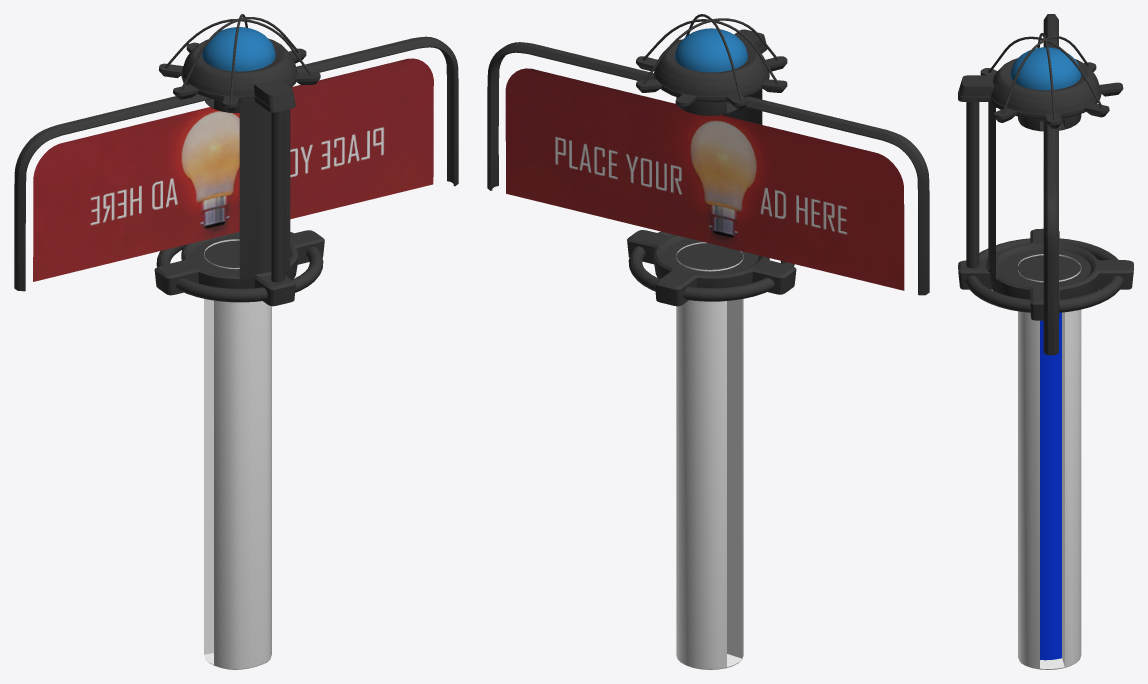
File: Future billboard.FBX
3 renders of one model, left to right at view 1: azimuth 30°, elevation 25°; view 2: azimuth 150°, elevation 25°; view 3: azimuth 270°, elevation 25°, orthographic. The views are drawn at different scales.
Parts seen in each view (by area): view 1: Plane001, STERILAZOR3, bole, Object001; view 2: Plane001, bole, STERILAZOR3, Object001; view 3: bole, STERILAZOR3, Object001.
Part boxes in pixels (box(x1,y1,x2,y2)): Plane001: box(33, 58, 433, 281); STERILAZOR3: box(154, 14, 324, 306); bole: box(204, 239, 271, 669); Object001: box(14, 36, 458, 291); Plane001: box(505, 68, 904, 290); bole: box(676, 242, 743, 669); STERILAZOR3: box(627, 14, 796, 306); Object001: box(487, 42, 929, 295); bole: box(1018, 254, 1081, 669); STERILAZOR3: box(958, 33, 1133, 320); Object001: box(1043, 14, 1058, 355).
Size of the model in its own units: 171 by 236 by 60.98.
Materials: 6 (1 with a texture image).
